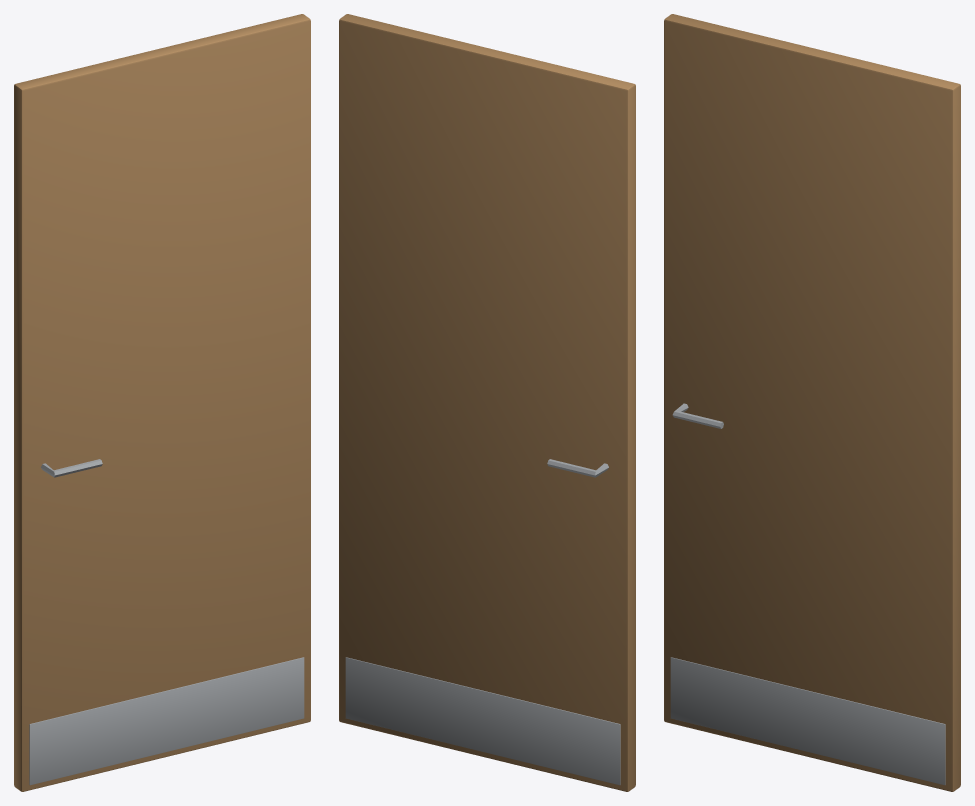
File: vantage_door_oak.glb
The picture shows the model from 3 angles, left to right: view 1: azimuth 30°, elevation 25°; view 2: azimuth 150°, elevation 25°; view 3: azimuth 330°, elevation 25°; orthographic projection.
Visible parts, largest first — view 1: vantage_door_oak; view 2: vantage_door_oak; view 3: vantage_door_oak.
Part boxes in pixels (<box>): vantage_door_oak: <box>14,14,310,791</box>; vantage_door_oak: <box>339,14,635,791</box>; vantage_door_oak: <box>664,14,960,791</box>.
Size of the model in its own units: 0.992 by 2.3 by 0.192.
